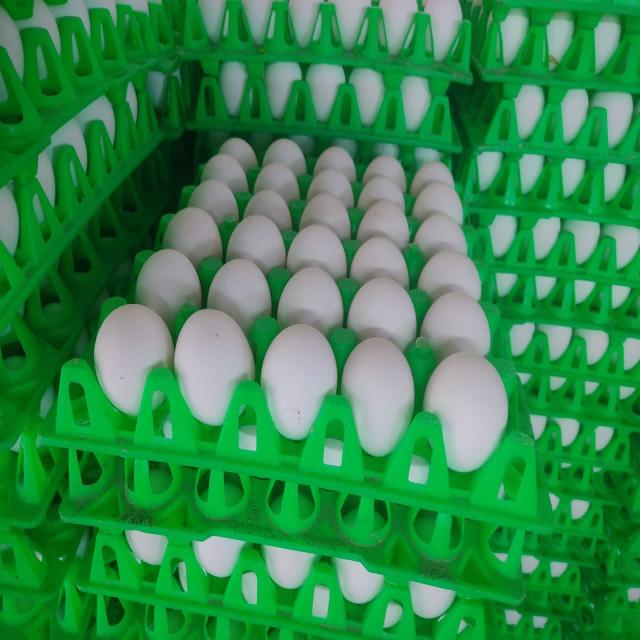egg_tray: (134, 154, 489, 355), (60, 451, 524, 603), (156, 139, 489, 325), (158, 192, 502, 356), (0, 194, 155, 527), (157, 140, 481, 297), (0, 149, 170, 447), (179, 140, 492, 299), (179, 139, 482, 287), (78, 531, 484, 639), (0, 75, 162, 321), (219, 185, 494, 328), (0, 75, 163, 307), (0, 145, 165, 357), (0, 171, 161, 387), (180, 132, 468, 240), (464, 152, 638, 330), (472, 213, 640, 385), (2, 74, 161, 254), (187, 57, 462, 152), (182, 0, 471, 83), (0, 0, 158, 147), (0, 567, 314, 639), (470, 201, 640, 333), (0, 556, 270, 639), (4, 62, 184, 185), (0, 563, 291, 639), (0, 531, 197, 639), (0, 274, 88, 508), (0, 71, 158, 183), (196, 130, 455, 198), (194, 130, 456, 197), (0, 542, 171, 639), (472, 212, 640, 309), (469, 0, 640, 92), (454, 83, 640, 163), (528, 397, 636, 530), (4, 0, 176, 83), (0, 0, 104, 137), (532, 407, 640, 529), (460, 151, 640, 224), (73, 199, 154, 358), (0, 538, 112, 639), (532, 415, 638, 519), (503, 319, 640, 399), (75, 592, 292, 639), (0, 385, 68, 529), (116, 0, 188, 134), (490, 271, 640, 334), (0, 386, 67, 527), (532, 415, 634, 503), (496, 275, 640, 335), (522, 493, 608, 593), (524, 489, 620, 576), (522, 527, 619, 613), (82, 594, 260, 639), (0, 505, 82, 599), (496, 562, 594, 637), (122, 602, 318, 639), (134, 207, 206, 307), (523, 374, 640, 433), (48, 531, 112, 638), (544, 507, 620, 592), (588, 516, 640, 637), (530, 411, 632, 472), (544, 461, 620, 539), (88, 0, 182, 63), (546, 462, 622, 539), (545, 461, 637, 520), (521, 551, 598, 619), (521, 532, 607, 590), (133, 60, 192, 139), (496, 599, 604, 639), (134, 61, 190, 138), (156, 180, 217, 249), (144, 61, 192, 139), (522, 555, 585, 614), (520, 568, 589, 619), (582, 565, 640, 623), (549, 485, 610, 539), (592, 519, 640, 587), (563, 597, 640, 639), (566, 596, 640, 639), (518, 585, 594, 625), (594, 570, 640, 636), (526, 529, 602, 567), (196, 616, 314, 639), (198, 616, 314, 639), (482, 0, 640, 16), (490, 606, 564, 639), (554, 583, 598, 638), (458, 301, 502, 356), (596, 583, 640, 637), (0, 595, 54, 639), (594, 591, 640, 639), (600, 576, 640, 630), (608, 472, 640, 532), (612, 453, 640, 521), (606, 505, 636, 555), (434, 613, 486, 639), (562, 621, 637, 639), (563, 621, 637, 639), (412, 273, 437, 325), (162, 284, 192, 327), (164, 213, 192, 252), (162, 0, 185, 45), (220, 141, 256, 167), (590, 621, 640, 639), (492, 527, 516, 559), (98, 36, 121, 68), (198, 257, 220, 290), (252, 250, 284, 271), (378, 247, 400, 270), (341, 283, 356, 313), (270, 277, 288, 300), (494, 530, 512, 552), (352, 259, 370, 281), (562, 421, 578, 445), (38, 166, 54, 189), (146, 607, 162, 630), (158, 217, 170, 247), (596, 428, 612, 450), (171, 220, 186, 241), (387, 269, 406, 285), (236, 314, 256, 329), (342, 283, 356, 303), (270, 202, 288, 217), (438, 297, 457, 311), (136, 254, 148, 276), (438, 297, 453, 314), (188, 615, 202, 633), (134, 255, 145, 277), (463, 1, 479, 16), (93, 5, 110, 19), (2, 507, 24, 517), (380, 629, 404, 637), (625, 565, 637, 581), (567, 629, 586, 639), (425, 163, 448, 171), (342, 287, 355, 301), (150, 155, 162, 170), (358, 249, 372, 261), (54, 617, 68, 629), (463, 631, 484, 639), (610, 591, 626, 601), (198, 187, 210, 200), (210, 244, 221, 258), (98, 0, 112, 11), (214, 189, 228, 199), (554, 514, 569, 523), (38, 153, 48, 165), (4, 475, 16, 485), (229, 203, 236, 220), (61, 147, 74, 156), (138, 256, 147, 269), (6, 367, 20, 375), (110, 611, 118, 625), (414, 172, 424, 183), (394, 238, 404, 248), (308, 203, 318, 213), (160, 223, 166, 239), (118, 630, 130, 638), (604, 507, 619, 513), (73, 623, 82, 633), (414, 172, 424, 181), (610, 568, 616, 583), (151, 3, 162, 11), (402, 633, 422, 637), (400, 340, 410, 348), (210, 161, 218, 171), (302, 216, 313, 223), (176, 634, 191, 639), (348, 629, 360, 635), (165, 492, 173, 501), (248, 315, 256, 324), (358, 252, 366, 261), (622, 451, 628, 463), (240, 321, 250, 328), (190, 616, 200, 623), (216, 213, 222, 224), (604, 515, 608, 531), (130, 504, 146, 508), (146, 32, 153, 41), (565, 499, 570, 511), (112, 613, 118, 623), (432, 269, 438, 279), (279, 141, 293, 145), (428, 264, 436, 271), (170, 613, 176, 622), (570, 635, 583, 639), (147, 0, 157, 5), (321, 174, 328, 181), (71, 607, 78, 614), (40, 353, 46, 361), (424, 223, 432, 229), (20, 375, 28, 381), (140, 293, 146, 301), (562, 515, 568, 523), (552, 497, 557, 506), (632, 441, 637, 450), (46, 183, 52, 190), (230, 167, 236, 174), (339, 151, 346, 157), (84, 287, 90, 294), (243, 220, 250, 226), (435, 236, 443, 241), (620, 605, 628, 610), (372, 181, 382, 185), (236, 278, 242, 284), (574, 408, 580, 414), (356, 185, 362, 191), (150, 163, 154, 172), (436, 635, 454, 637), (46, 191, 51, 198), (433, 216, 440, 221), (66, 176, 71, 183), (236, 237, 241, 244), (634, 551, 637, 562), (124, 0, 135, 3), (418, 314, 422, 322), (340, 633, 348, 637), (108, 598, 116, 602), (58, 194, 62, 202), (634, 604, 636, 619), (481, 269, 484, 279), (150, 302, 156, 307), (3, 264, 9, 269), (122, 634, 132, 637), (43, 557, 48, 563), (598, 551, 604, 556), (198, 260, 202, 267), (373, 633, 380, 637), (140, 608, 144, 615), (421, 231, 426, 236), (208, 241, 213, 246), (482, 291, 488, 295), (0, 245, 4, 251), (172, 627, 178, 631), (43, 557, 47, 563), (202, 254, 209, 257), (537, 340, 540, 347), (198, 623, 201, 630), (556, 588, 561, 592), (583, 579, 588, 583), (221, 147, 226, 151), (192, 293, 196, 298), (620, 612, 624, 617), (350, 159, 352, 169), (26, 285, 31, 289), (6, 138, 10, 143), (102, 296, 108, 299), (557, 563, 566, 565), (202, 254, 208, 257), (530, 534, 536, 537), (234, 188, 240, 191), (191, 277, 194, 283), (608, 635, 614, 638), (633, 557, 636, 563), (94, 167, 98, 171), (429, 231, 433, 235), (440, 230, 444, 234), (190, 213, 194, 217), (30, 347, 34, 351), (426, 289, 430, 293), (6, 190, 10, 194), (566, 573, 570, 577), (332, 172, 336, 176), (130, 189, 134, 193), (440, 625, 444, 629), (458, 623, 462, 627), (632, 577, 636, 581), (145, 103, 148, 108), (366, 634, 371, 637), (450, 265, 455, 268), (144, 149, 149, 152), (192, 271, 195, 276), (555, 516, 558, 521), (56, 168, 58, 175), (50, 181, 52, 188), (212, 133, 215, 137), (558, 580, 562, 583), (276, 295, 278, 301), (199, 249, 202, 253), (208, 248, 212, 251), (182, 318, 186, 321), (50, 172, 52, 178), (378, 271, 382, 274), (175, 245, 179, 248), (427, 335, 433, 337), (156, 307, 160, 310), (330, 148, 336, 150), (68, 184, 72, 187), (58, 181, 60, 187), (384, 180, 388, 183), (236, 317, 239, 321), (128, 619, 131, 623), (635, 543, 636, 554), (568, 389, 570, 394), (352, 291, 354, 296), (298, 209, 300, 214), (146, 16, 148, 21), (130, 620, 132, 625), (250, 220, 260, 221), (94, 159, 97, 162), (252, 211, 255, 214), (201, 229, 204, 232), (117, 598, 120, 601), (414, 225, 417, 228), (303, 214, 306, 217), (96, 140, 99, 143), (606, 635, 615, 636), (567, 426, 570, 429), (616, 289, 618, 293), (566, 573, 570, 575), (208, 233, 210, 237), (212, 230, 214, 234), (614, 365, 616, 369), (586, 579, 590, 581), (612, 625, 614, 629), (630, 615, 632, 619), (450, 343, 452, 347), (586, 545, 590, 547), (135, 272, 137, 276), (146, 198, 150, 200), (464, 623, 466, 627), (94, 205, 96, 209), (148, 266, 150, 270), (198, 635, 202, 637), (578, 281, 581, 283), (324, 197, 326, 200), (555, 407, 558, 409), (346, 309, 348, 312), (618, 380, 620, 383), (48, 164, 50, 167), (398, 267, 401, 269), (444, 158, 446, 161), (305, 139, 307, 142), (486, 309, 488, 312), (611, 635, 617, 636), (495, 267, 497, 270), (154, 210, 156, 213), (638, 590, 640, 593), (155, 607, 158, 609), (206, 285, 208, 288), (200, 236, 202, 239), (140, 612, 143, 614), (378, 247, 381, 249), (136, 636, 138, 639), (597, 575, 600, 577), (507, 274, 512, 275), (174, 258, 179, 259), (586, 611, 587, 616), (144, 243, 146, 245), (156, 183, 158, 185), (554, 380, 556, 382), (139, 73, 141, 75), (110, 71, 114, 72), (98, 595, 100, 597), (420, 225, 422, 227), (54, 151, 56, 153), (634, 634, 636, 636), (217, 255, 221, 256), (607, 567, 609, 569), (496, 352, 498, 354), (323, 327, 325, 329), (346, 308, 348, 310), (148, 267, 150, 269), (540, 537, 542, 539), (541, 443, 543, 445), (74, 179, 76, 181), (230, 185, 232, 187), (210, 175, 212, 177), (182, 259, 184, 261), (185, 247, 187, 249), (350, 196, 352, 198), (336, 185, 338, 187), (432, 167, 434, 169), (218, 157, 220, 159), (282, 253, 284, 255), (127, 607, 131, 608), (562, 425, 564, 427), (582, 416, 586, 417), (638, 253, 640, 255), (448, 234, 451, 235), (283, 282, 284, 285), (261, 296, 264, 297), (230, 200, 231, 203), (155, 168, 156, 171), (66, 349, 68, 350), (596, 527, 598, 528), (409, 174, 411, 175), (86, 635, 88, 636), (134, 609, 136, 610), (262, 327, 264, 328), (448, 220, 450, 221), (332, 220, 334, 221), (266, 211, 268, 212), (100, 287, 102, 288), (173, 309, 175, 310), (530, 629, 532, 630), (193, 294, 195, 295), (80, 181, 81, 183), (69, 249, 71, 250), (627, 393, 628, 395), (440, 631, 442, 632), (461, 629, 462, 631), (52, 272, 54, 273), (235, 256, 237, 257), (240, 234, 242, 235), (238, 156, 240, 157), (28, 286, 30, 287), (27, 286, 28, 288), (100, 636, 101, 637), (189, 270, 190, 271), (358, 267, 359, 268), (578, 523, 579, 524), (69, 629, 70, 630), (38, 552, 39, 553), (13, 309, 14, 310), (107, 0, 108, 1), (77, 561, 77, 561), (130, 266, 130, 268), (29, 265, 29, 266), (130, 262, 130, 264), (56, 507, 56, 508), (590, 621, 590, 621), (543, 289, 543, 291), (568, 529, 568, 530), (600, 527, 601, 527), (345, 291, 345, 292), (281, 278, 281, 279), (207, 269, 208, 269), (597, 464, 597, 465), (168, 4, 168, 5), (452, 618, 452, 619), (130, 89, 130, 90), (418, 223, 419, 223), (430, 220, 430, 221), (16, 380, 16, 381), (103, 285, 103, 285), (595, 501, 597, 501), (201, 251, 201, 252), (167, 245, 172, 245), (386, 243, 388, 243), (608, 507, 608, 508), (185, 299, 186, 299), (450, 283, 450, 283), (634, 443, 635, 443), (622, 509, 623, 509), (569, 512, 569, 516), (581, 521, 582, 521), (616, 514, 616, 515), (581, 630, 581, 631), (636, 614, 636, 615), (301, 185, 301, 187), (183, 319, 183, 319), (376, 303, 376, 303), (185, 263, 185, 263), (176, 258, 176, 259), (301, 156, 301, 158), (7, 252, 7, 253), (12, 196, 12, 197), (174, 194, 174, 195), (59, 173, 59, 175), (61, 160, 61, 161), (76, 156, 76, 157), (436, 276, 436, 278), (221, 253, 221, 256), (206, 211, 206, 212), (326, 187, 331, 187), (142, 249, 143, 249), (592, 389, 592, 389), (626, 385, 630, 385), (543, 365, 543, 365), (534, 341, 536, 341), (74, 621, 74, 621), (76, 618, 76, 620), (26, 243, 26, 243), (103, 197, 103, 199), (112, 516, 112, 517), (101, 516, 101, 517), (405, 223, 405, 224), (132, 638, 132, 640), (461, 285, 461, 285), (265, 258, 265, 259), (443, 256, 443, 257), (378, 243, 379, 243), (263, 229, 263, 230), (310, 169, 310, 170), (74, 0, 74, 1), (201, 631, 201, 632)
